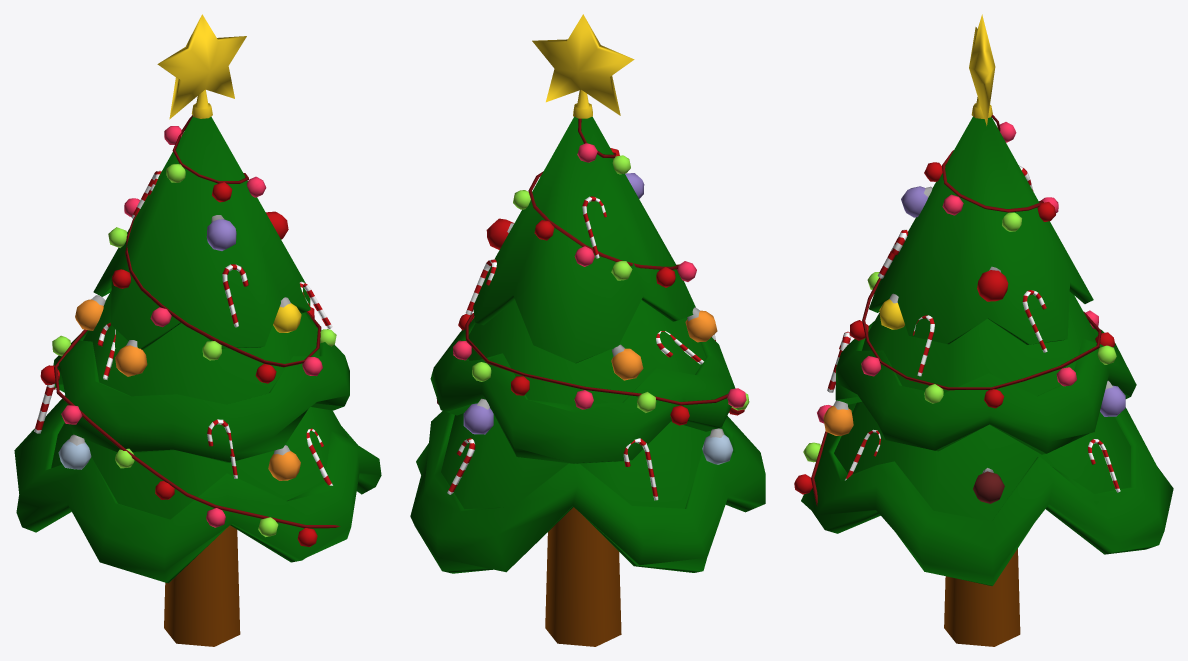
The model's file is Tree_Christmas.fbx.
3 views of the same model, side by side, from view 1: azimuth 30°, elevation 25°; view 2: azimuth 150°, elevation 25°; view 3: azimuth 270°, elevation 25° (orthographic).
Parts seen in each view (by area): view 1: Tree_Christmas; view 2: Tree_Christmas; view 3: Tree_Christmas.
Boxes of the visible parts, box(x1,y1,x2,y2) form: Tree_Christmas: box(14, 14, 381, 646); Tree_Christmas: box(410, 14, 765, 646); Tree_Christmas: box(794, 14, 1173, 646).
Bounding box in the file's own units: 453 × 844 × 470.
